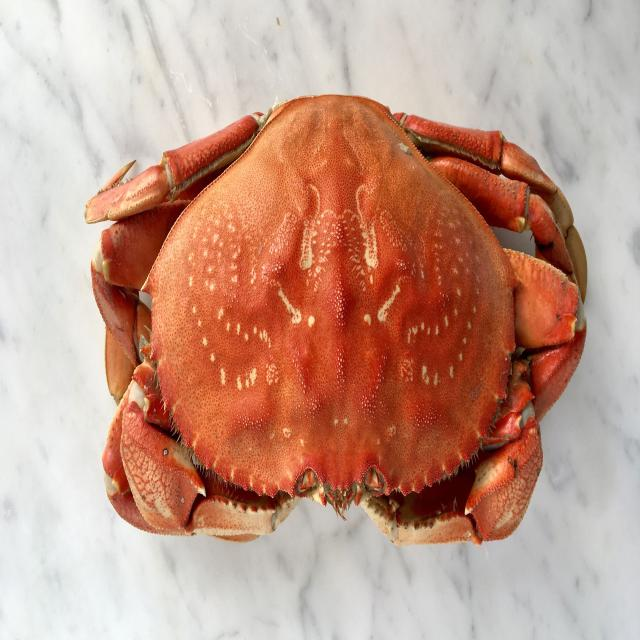crab: (133, 112, 559, 515)
